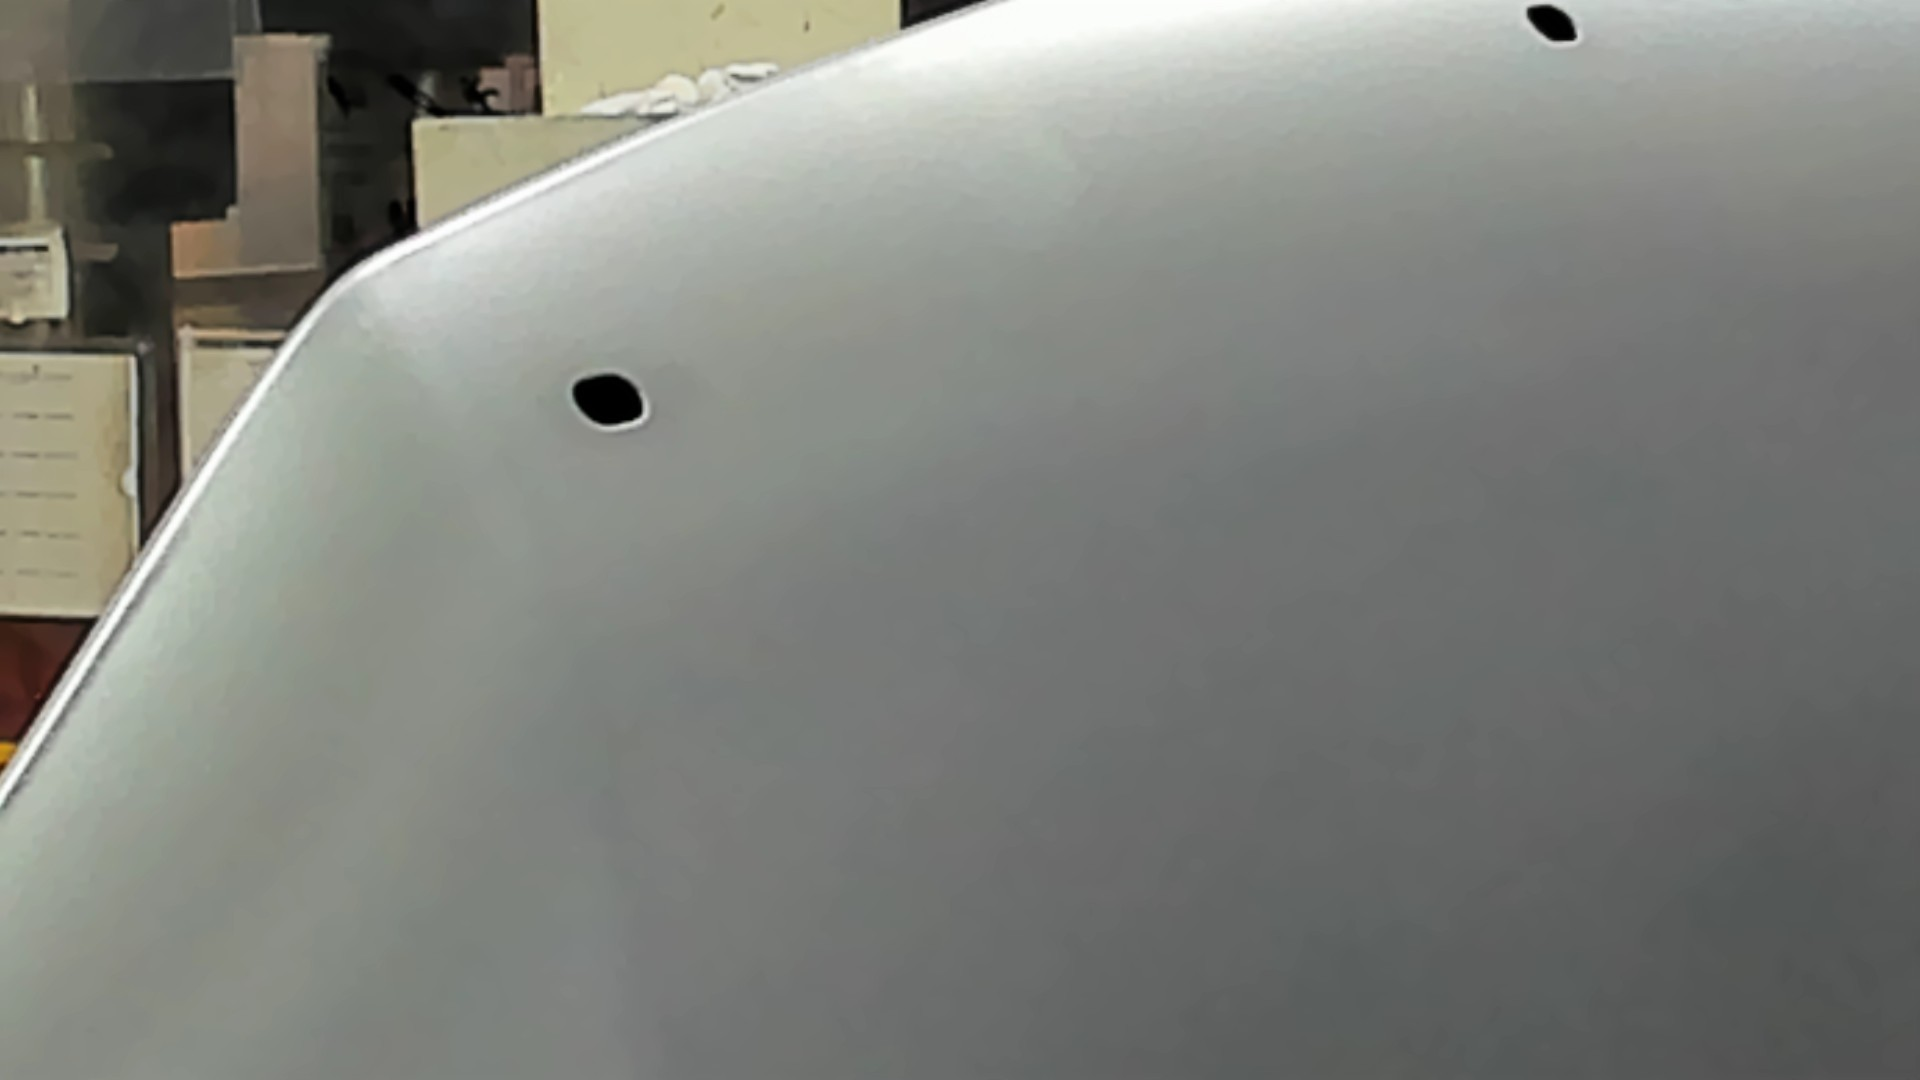amorfo: (556, 361, 670, 436), (1519, 1, 1588, 55)
